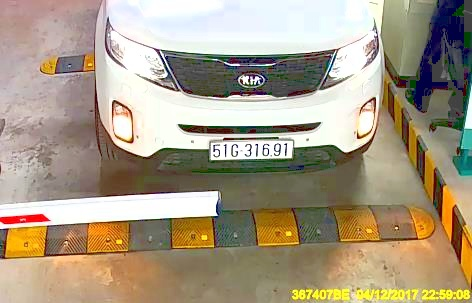plate: (209, 139, 293, 163)
